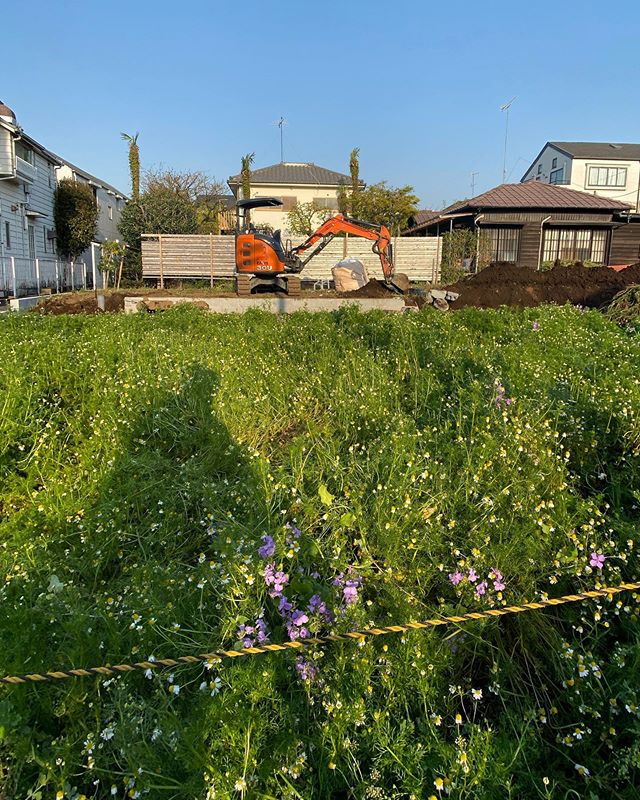building: (1, 100, 137, 302), (432, 187, 640, 285), (226, 157, 366, 238), (520, 135, 640, 200)
excavator: (210, 187, 412, 298)
grass: (4, 320, 640, 800)
sky: (23, 1, 640, 146)
